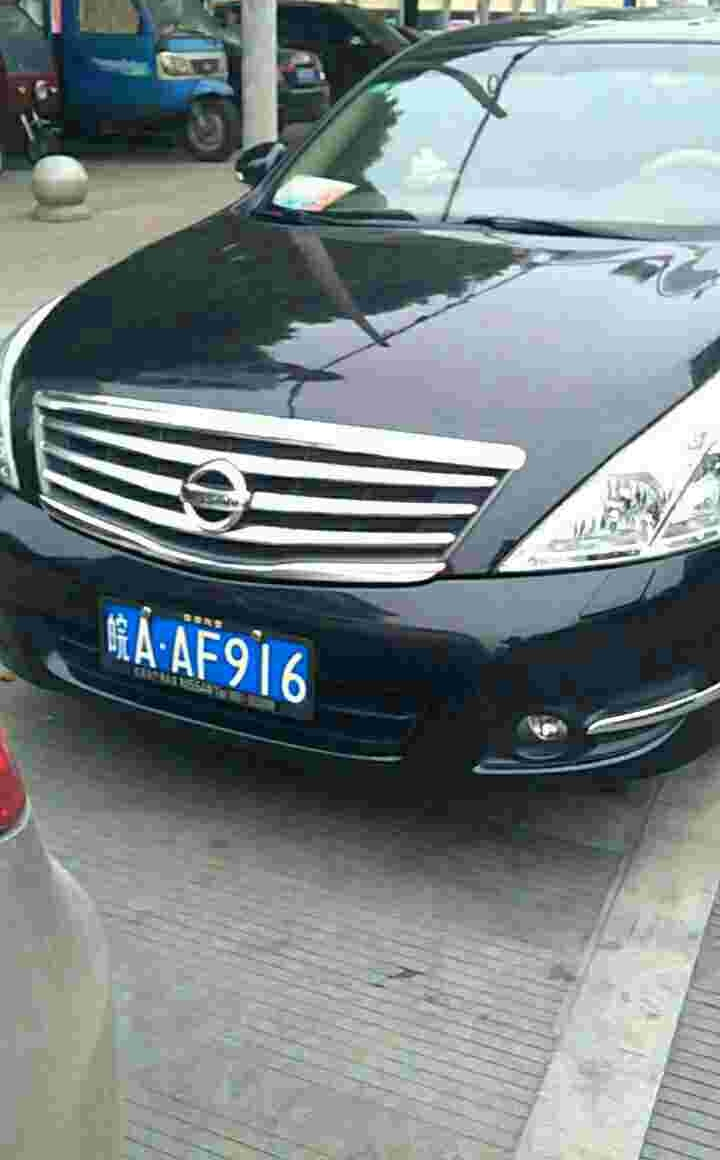license_plate: (89, 598, 319, 705)
